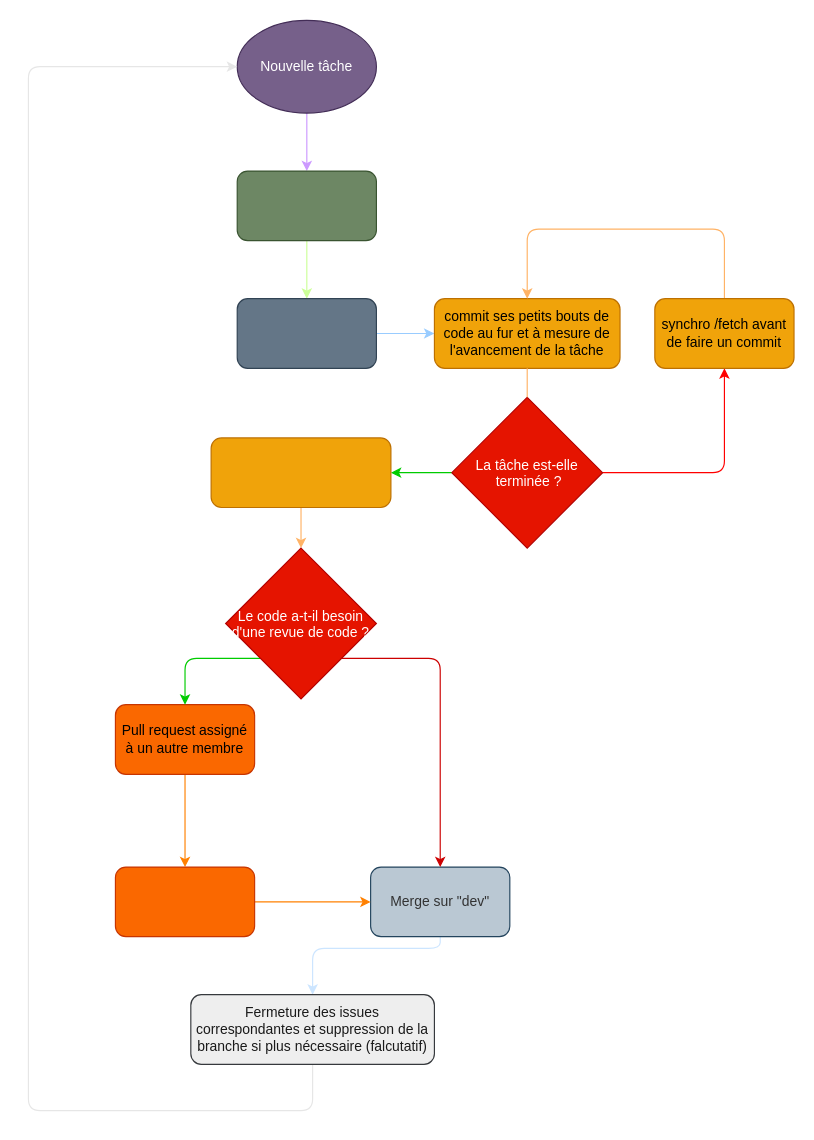
This 814x1140 diagram has some shape labels left out. Each missing label, with the centre of its shape:
"code review avec ou sans modification" belongs at (x=184, y=901).
"Créer sa branche de travail" belongs at (x=306, y=333).
"Prendre la dernière version du repo de base (fetch /pull)" belongs at (x=306, y=205).
"synchro /fetch avant de faire un Merge/pull request" belongs at (x=300, y=472).
